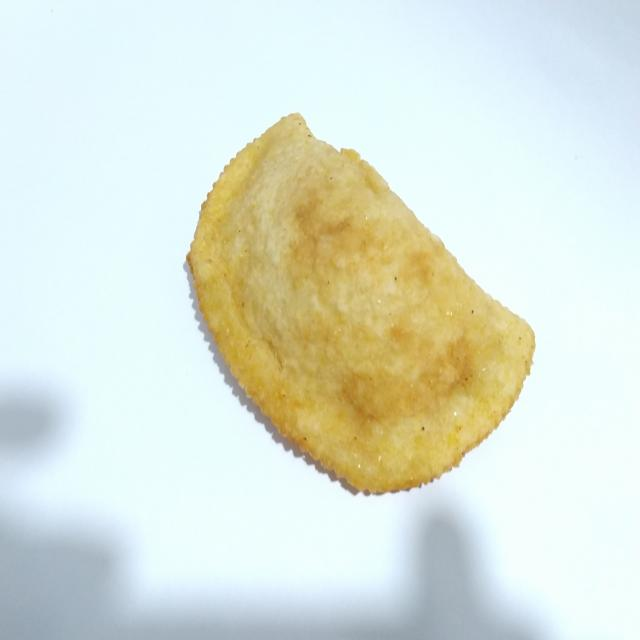Pastel_Mandio: (174, 106, 544, 508)
